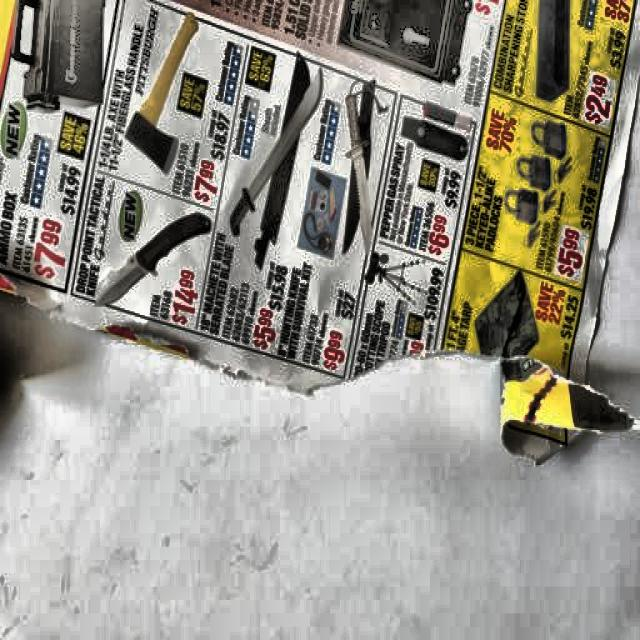paper: (4, 4, 620, 453)
